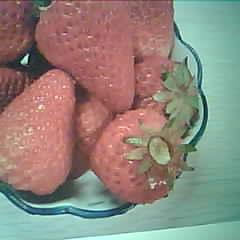straw-ripe: (34, 0, 135, 110), (0, 70, 75, 197)
